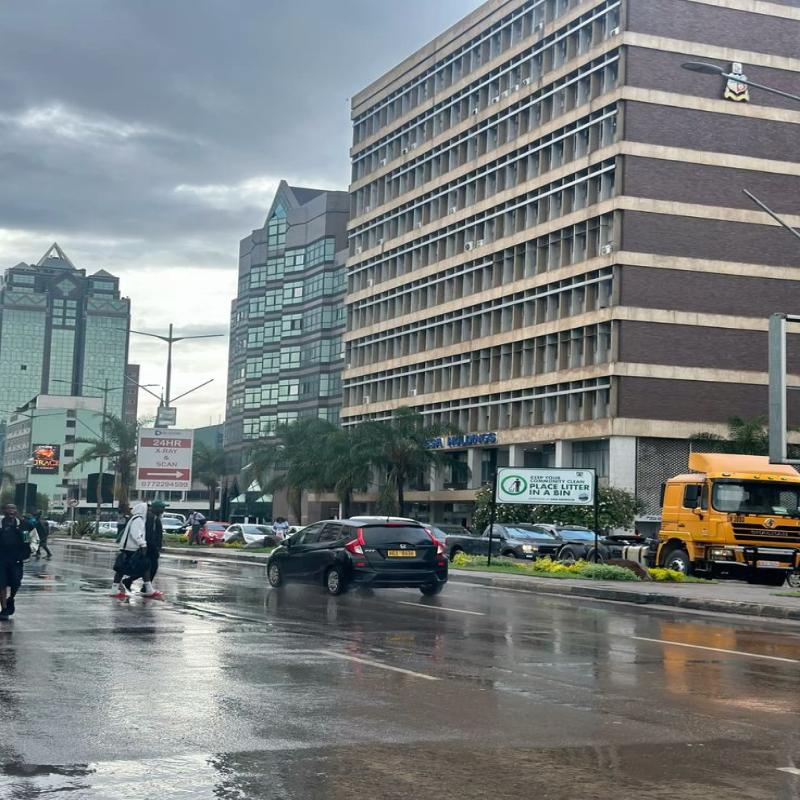license plate on a car: (387, 550, 416, 557), (758, 561, 781, 567)
